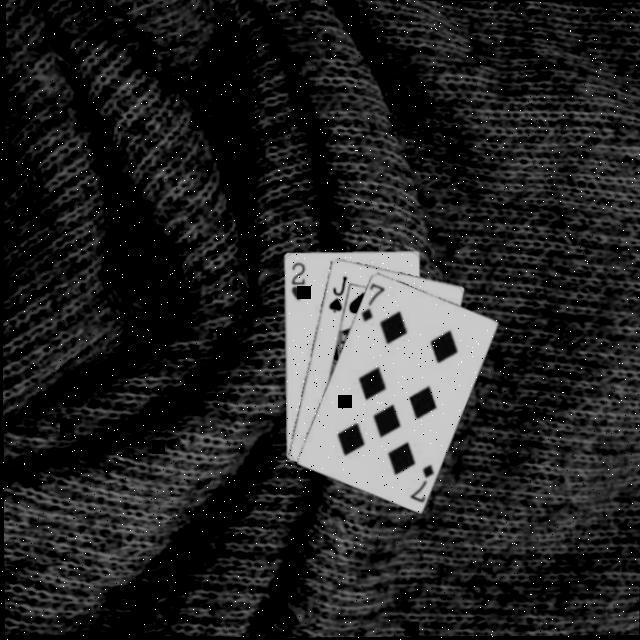2H: (288, 256, 309, 301)
7D: (358, 278, 389, 323), (406, 458, 437, 503)
JS: (326, 271, 351, 313)
